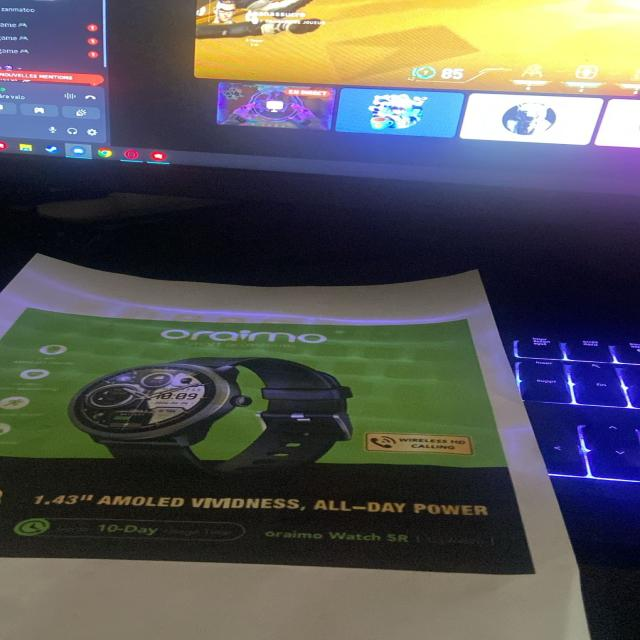Oraimo Watch 5R OSW-820: (259, 525, 508, 551)
